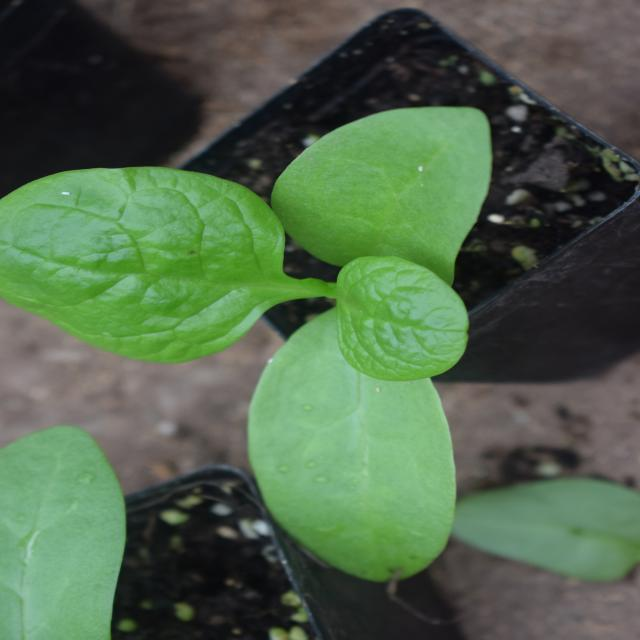Ceylon spinach: (91, 15, 512, 513)
